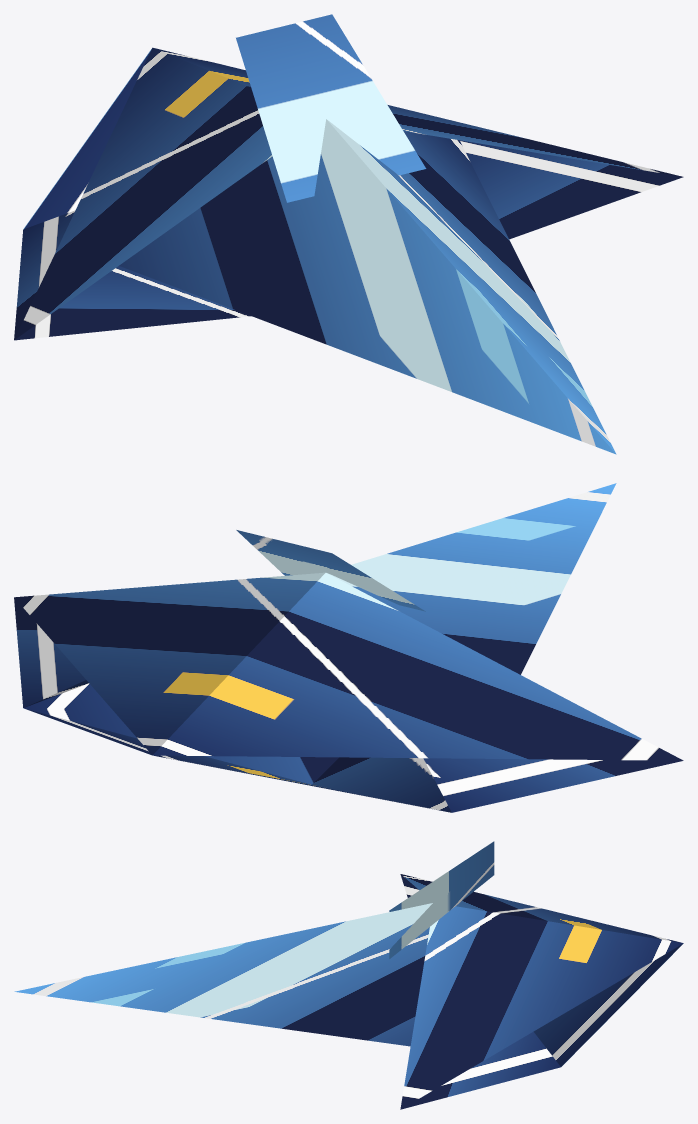
The model's file is ship.obj.
3 renders of one model, top to bottom at view 1: azimuth 30°, elevation 25°; view 2: azimuth 150°, elevation 25°; view 3: azimuth 270°, elevation 25°, orthographic. The views are drawn at different scales.
Bounding box in the file's own units: 2.5 × 0.94 × 3.
1 material, 1 textured.
